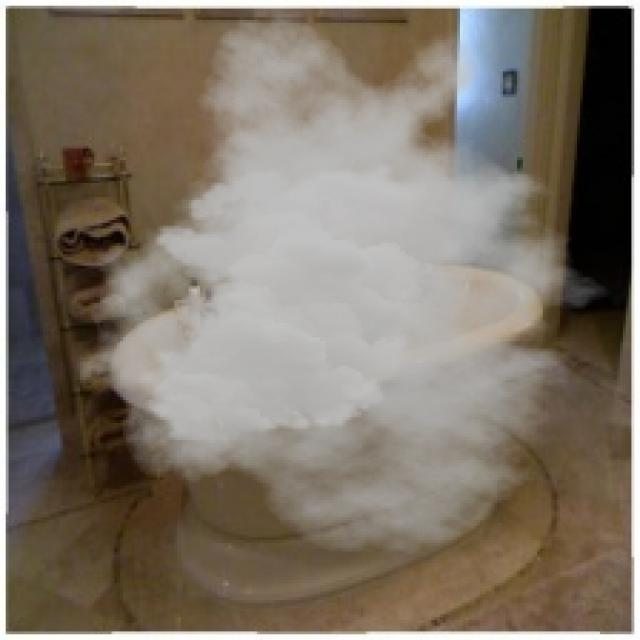smoke: (75, 12, 634, 554)
